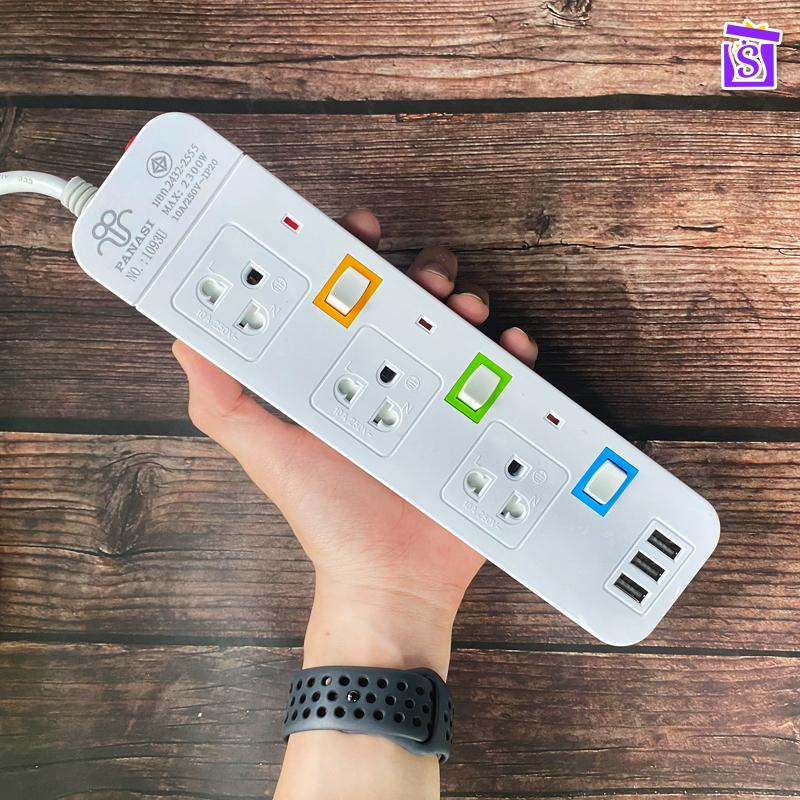Three_eye_plug: (46, 97, 749, 669)
